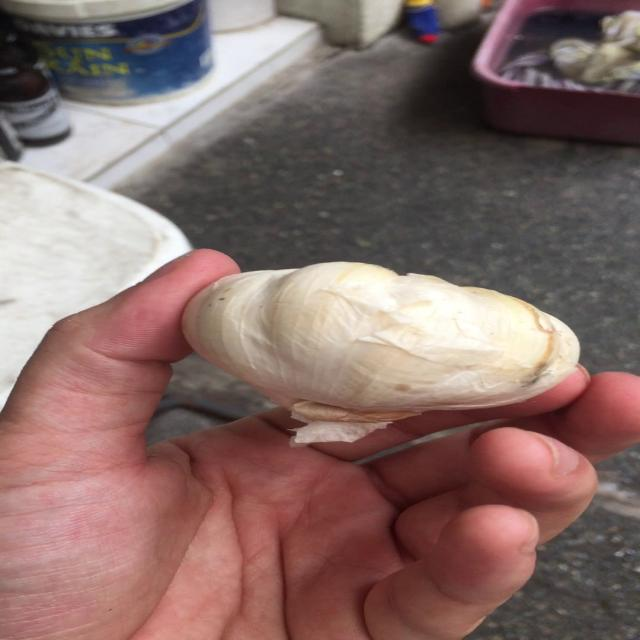garlic: (175, 258, 588, 444)
